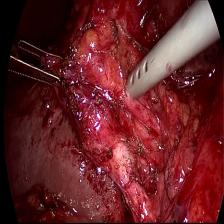Grasper: (0, 35, 76, 92)
Irrigator: (124, 43, 169, 103)
